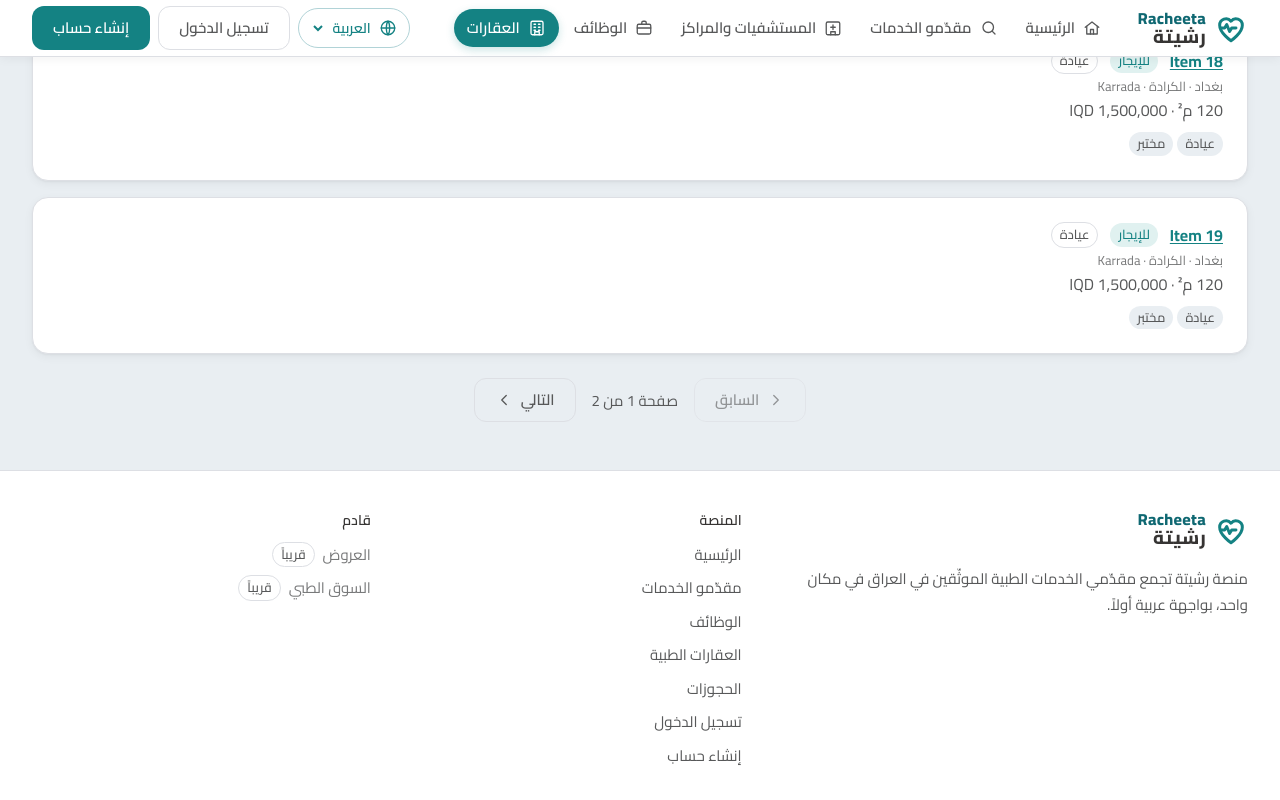
Test: Public real-estate catalogue › paginates through the backend
(page scrolled)
Click the button "التالي".
click(525, 400)  # box [474, 378, 576, 422]
(page scrolled)
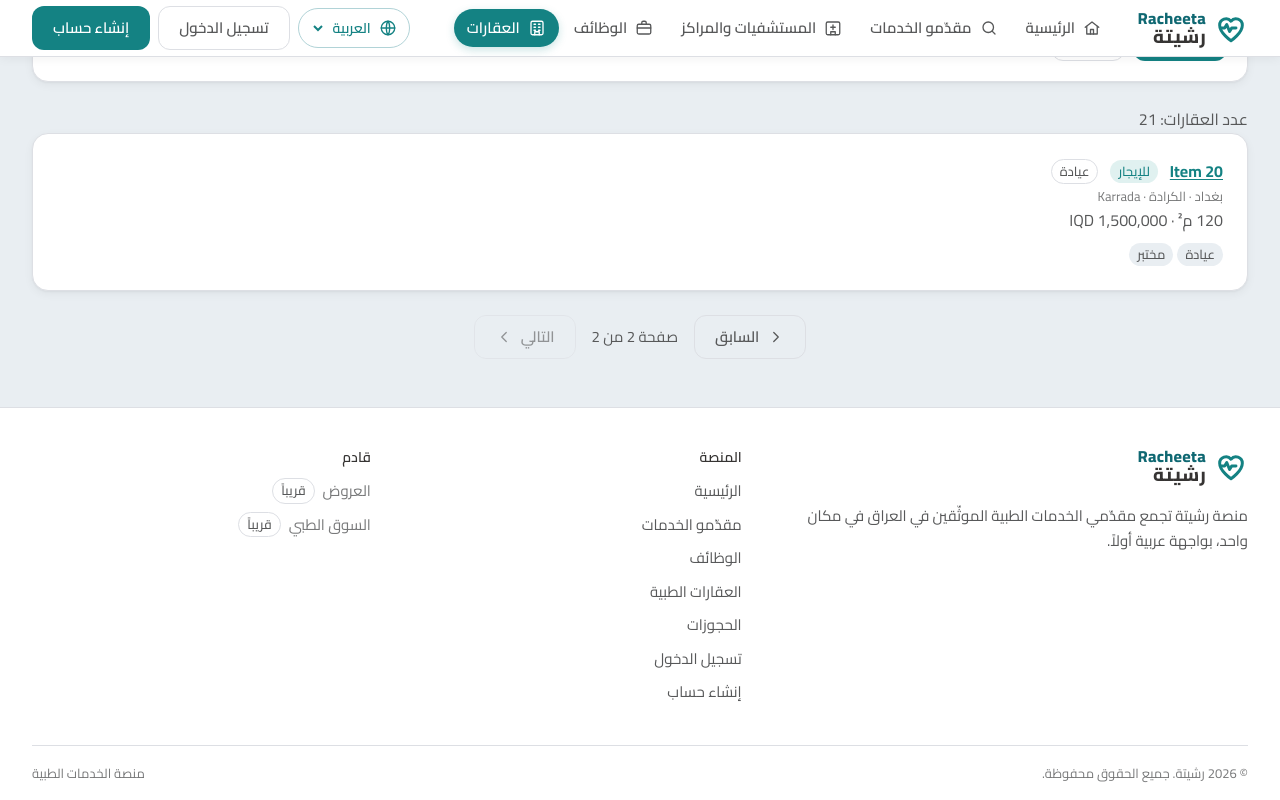
expect the text "Item 20" is shown: met, box [1170, 156, 1223, 186]
